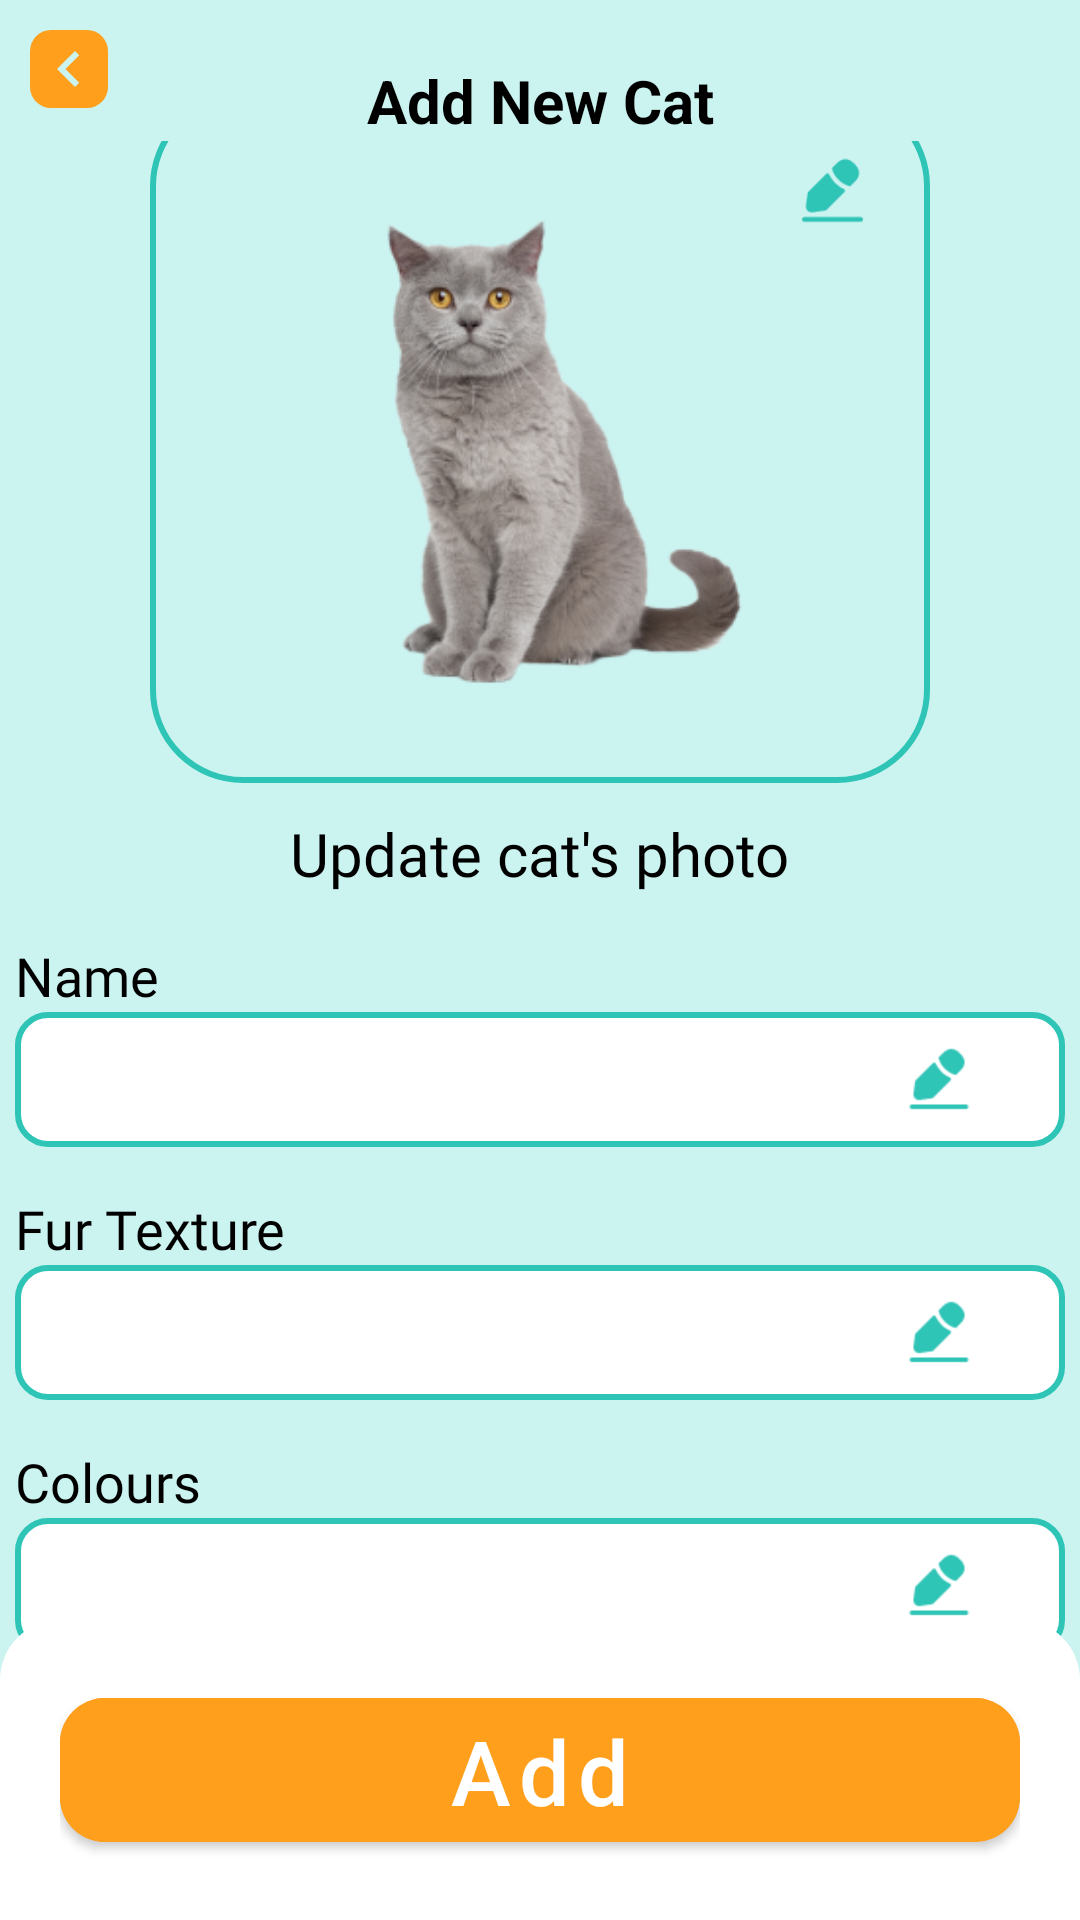

Screen size 1080px x 1920px. Icon name, then its center in pixels as point (x, y):
cheveron: point (69, 69)
edit cat: point (832, 190)
